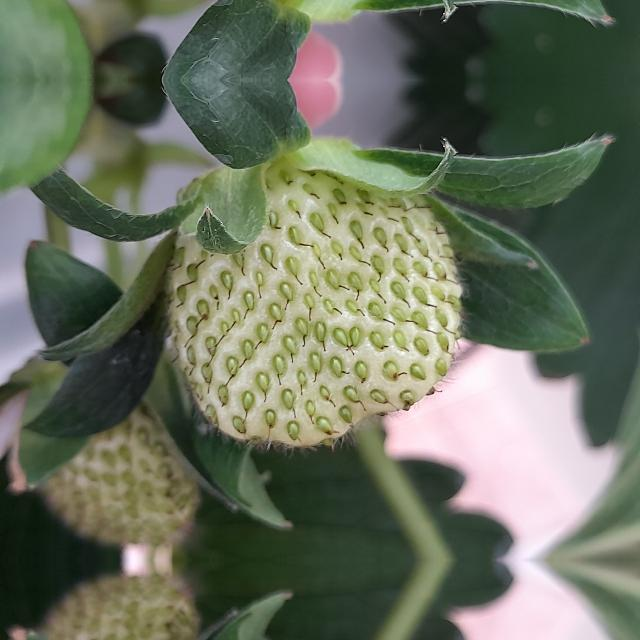Health_25: (164, 160, 473, 458)
